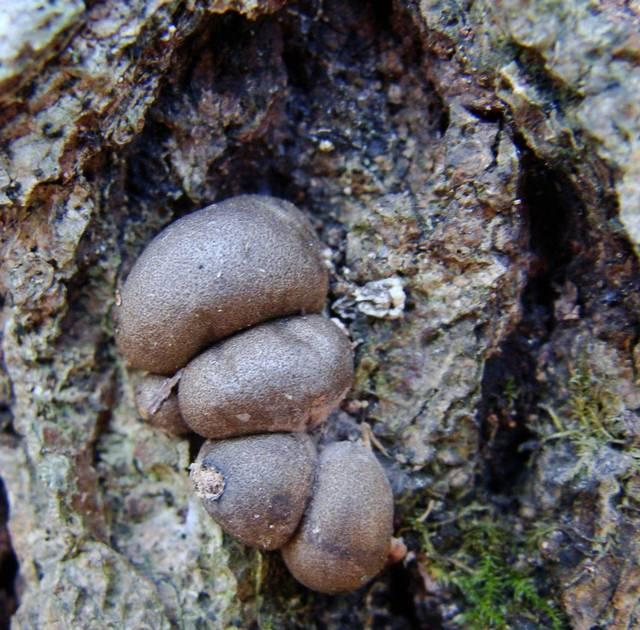poisonous_mushroom: (111, 192, 401, 595), (111, 191, 331, 375), (175, 312, 356, 439), (279, 438, 396, 595), (188, 430, 318, 551), (0, 456, 23, 629)
